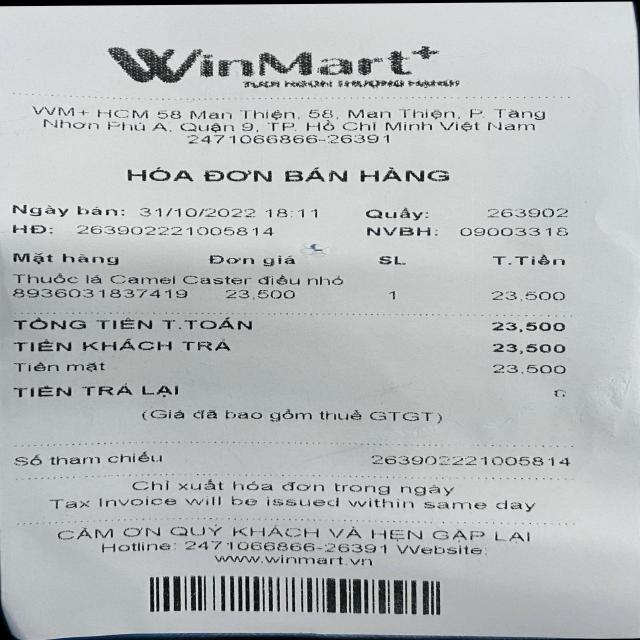Date: (129, 204, 264, 222)
Store_Name: (76, 38, 492, 96)
amount_number: (480, 317, 576, 336)
label_total: (6, 316, 258, 334)
